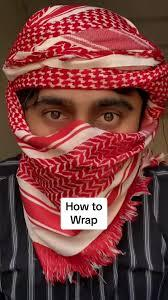scarf-kerchief: (0, 0, 164, 227)
